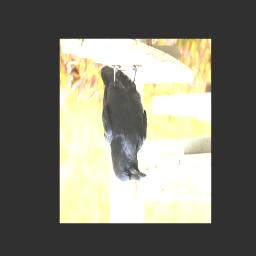Crow: (100, 64, 148, 183)
